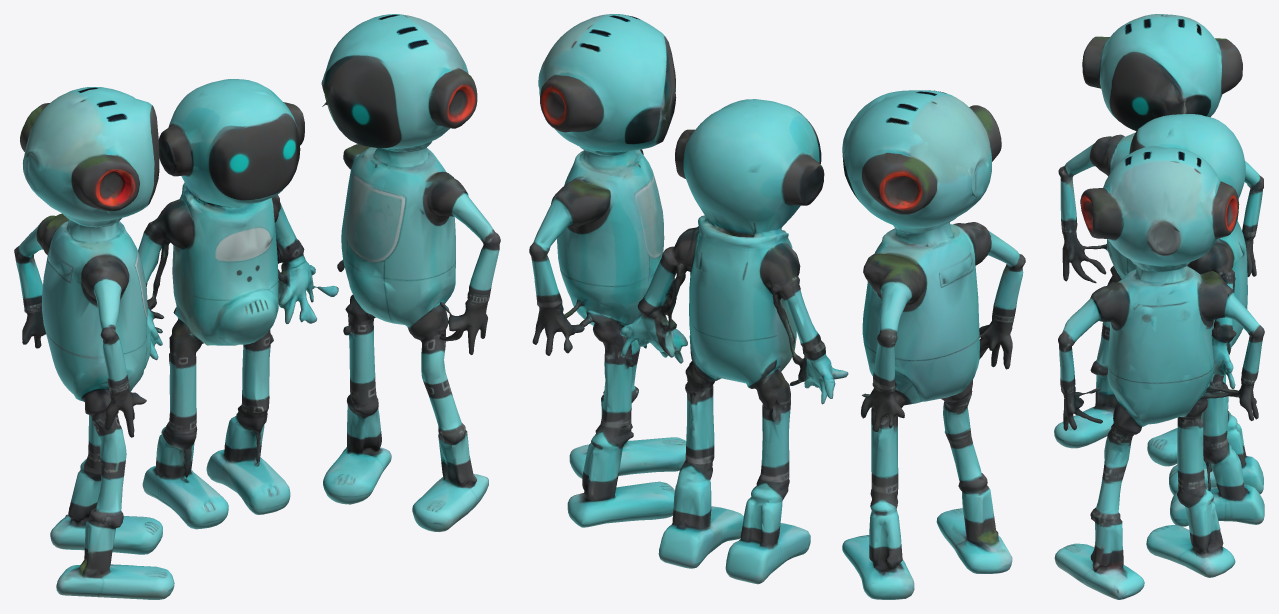
Rendered from collaborative.glb.
3 renders of one model, left to right at view 1: azimuth 30°, elevation 25°; view 2: azimuth 150°, elevation 25°; view 3: azimuth 270°, elevation 25°, orthographic. The views are drawn at different scales.
Bounding box in the file's own units: 1.93 × 2 × 0.9053.
Materials: 1 (1 with a texture image).
